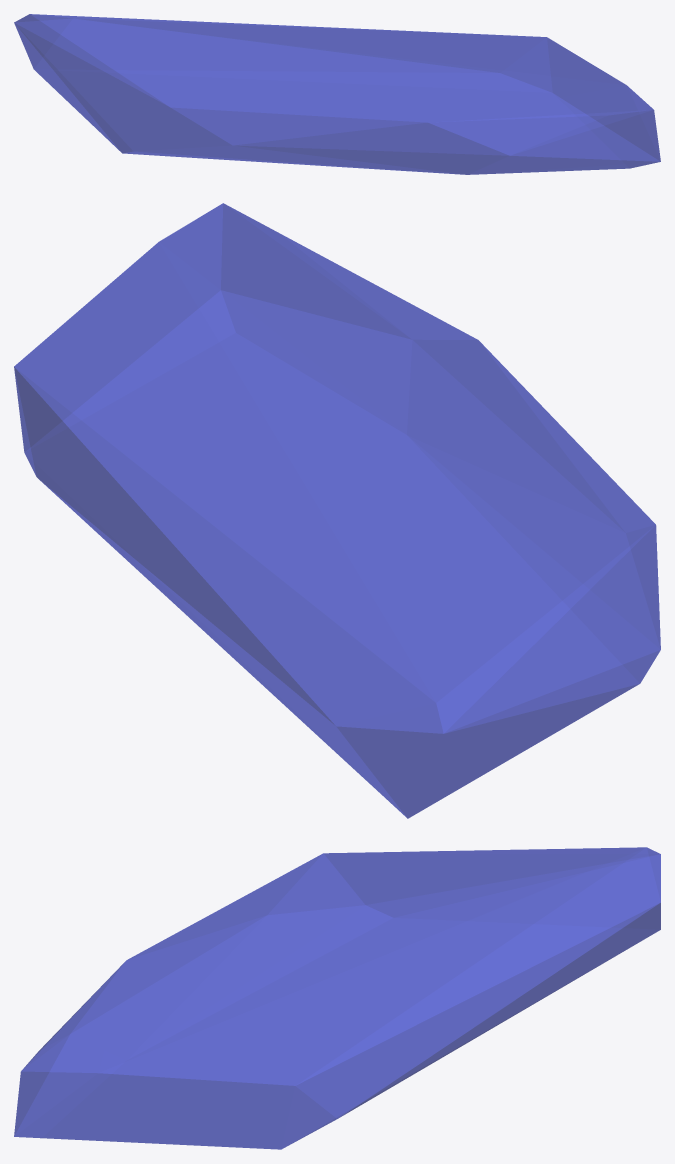
The picture shows the model from 3 angles, top to bottom: view 1: azimuth 30°, elevation 25°; view 2: azimuth 150°, elevation 25°; view 3: azimuth 270°, elevation 25°; orthographic projection. The views are drawn at different scales.
Parts seen in each view (by area): view 1: Shape_IndexedFaceSet.078_Shape_IndexedFaceSet.6341; view 2: Shape_IndexedFaceSet.078_Shape_IndexedFaceSet.6341; view 3: Shape_IndexedFaceSet.078_Shape_IndexedFaceSet.6341.
Boxes of the visible parts, left/top/right/bottom form: Shape_IndexedFaceSet.078_Shape_IndexedFaceSet.6341: left=14, top=14, right=660, bottom=174; Shape_IndexedFaceSet.078_Shape_IndexedFaceSet.6341: left=14, top=203, right=660, bottom=818; Shape_IndexedFaceSet.078_Shape_IndexedFaceSet.6341: left=14, top=847, right=660, bottom=1149.
Bounding box in the file's own units: 0.0927 × 0.0143 × 0.1093.
